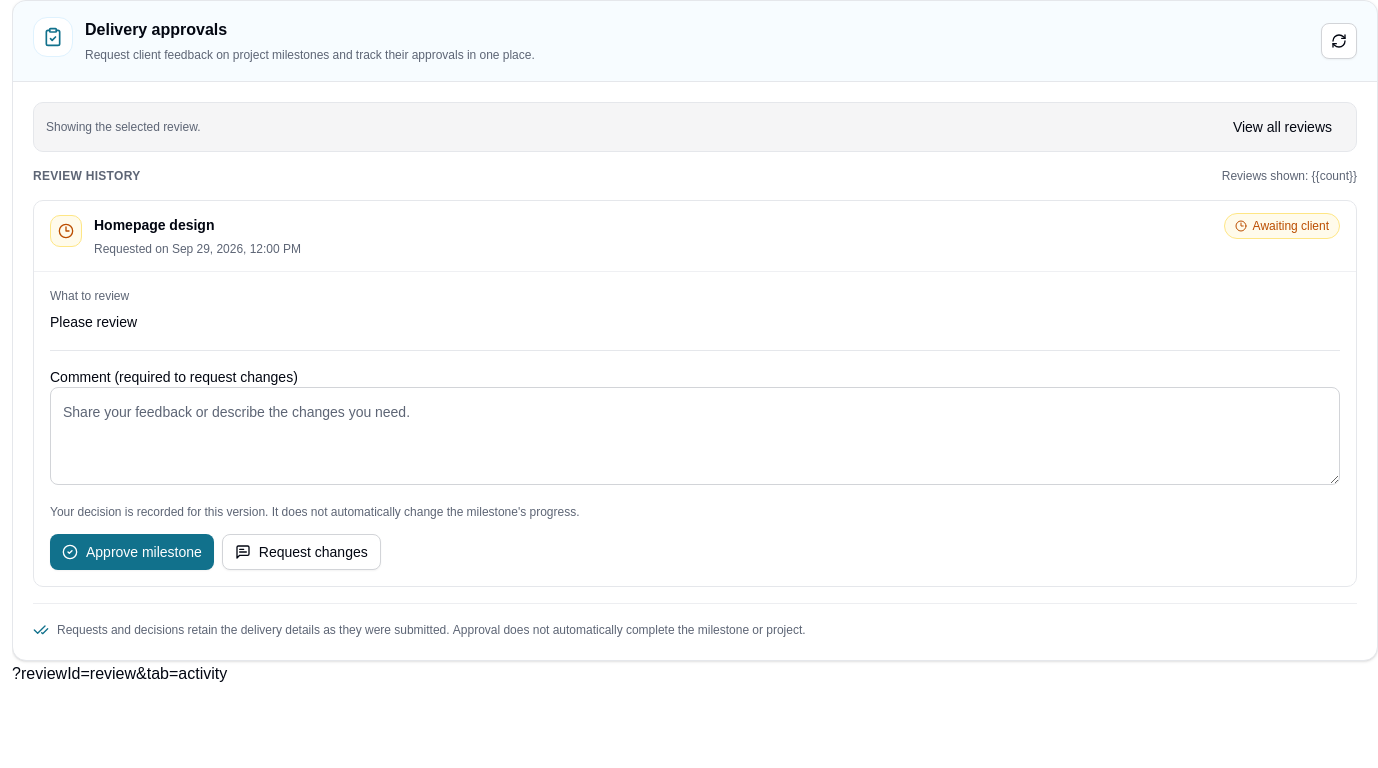
lets a client return from a linked request to all reviews without offering request creation
Click the button "View all reviews" at [1282, 127], box [1221, 111, 1344, 143]
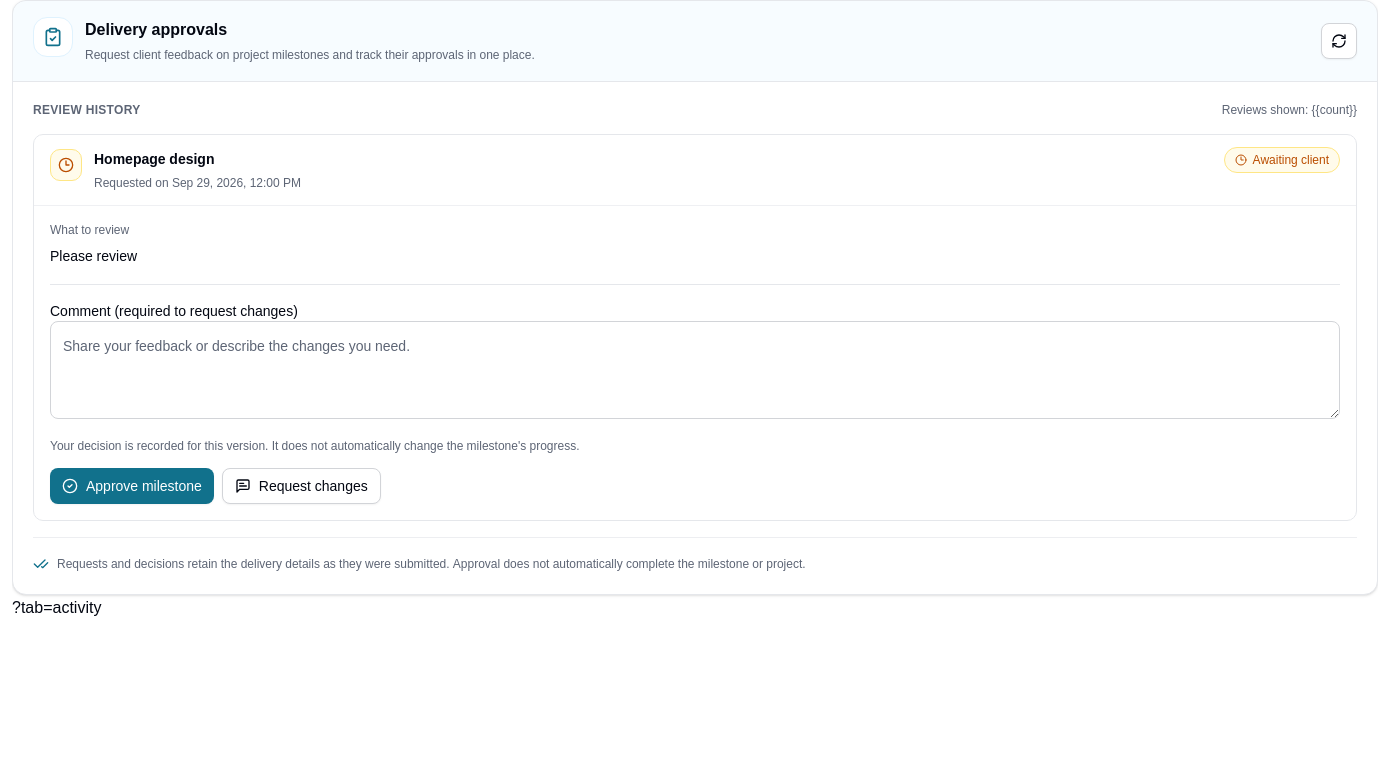
Expected: the button "Approve milestone" is shown, [50, 468, 214, 504]
Expected: the text with test id "location" reads "?tab=activity", [12, 596, 101, 618]
